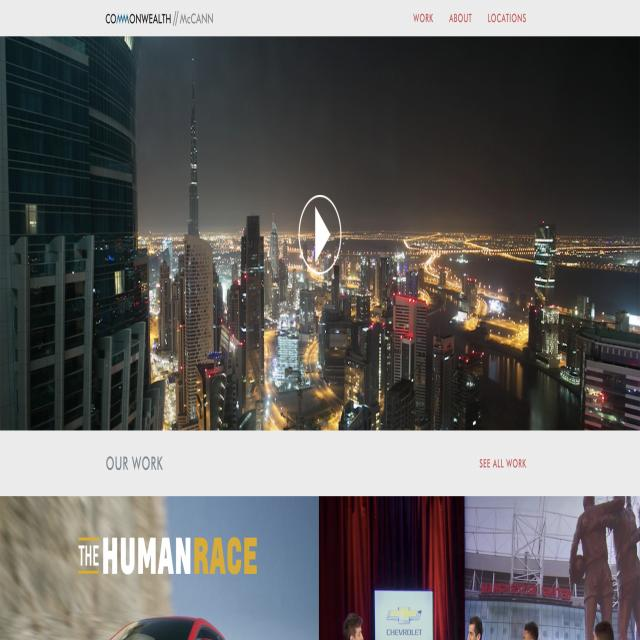Logo: (104, 0, 222, 37)
Navigation: (402, 0, 534, 37)
